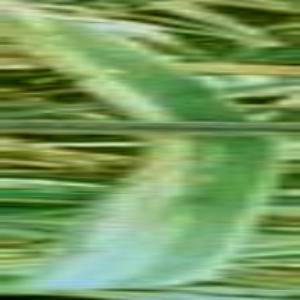2 BacterialBlight: (91, 35, 271, 294)
